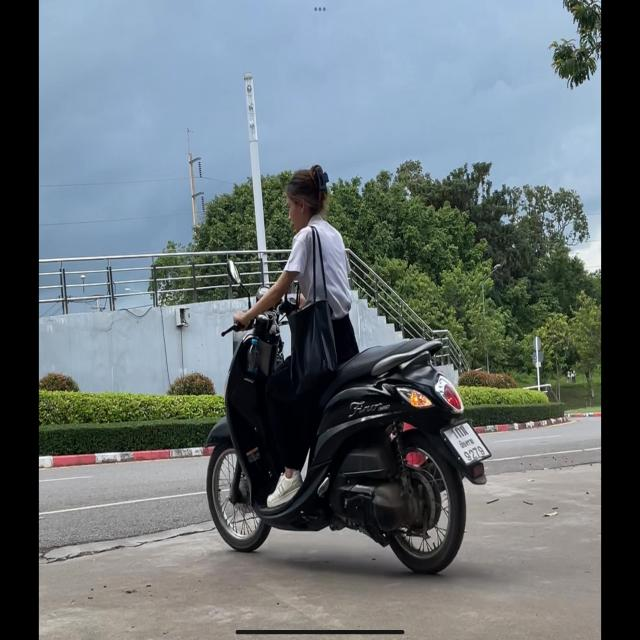seatbelt: (282, 165, 328, 234)
